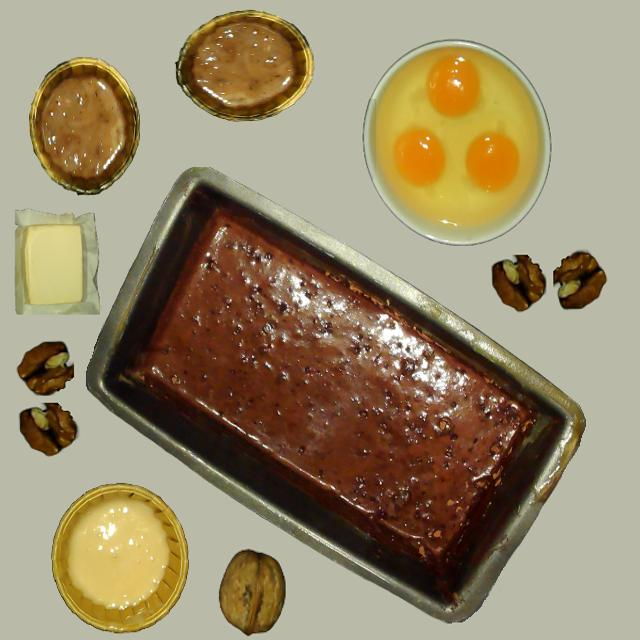Egg: (464, 131, 521, 192), (428, 56, 480, 118), (395, 128, 446, 186)
Walnut: (218, 551, 285, 635)
